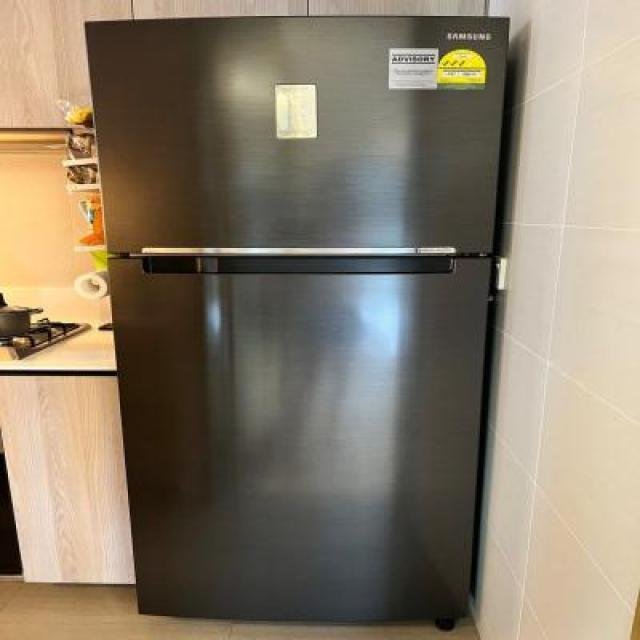refrigerator: (81, 16, 508, 626)
